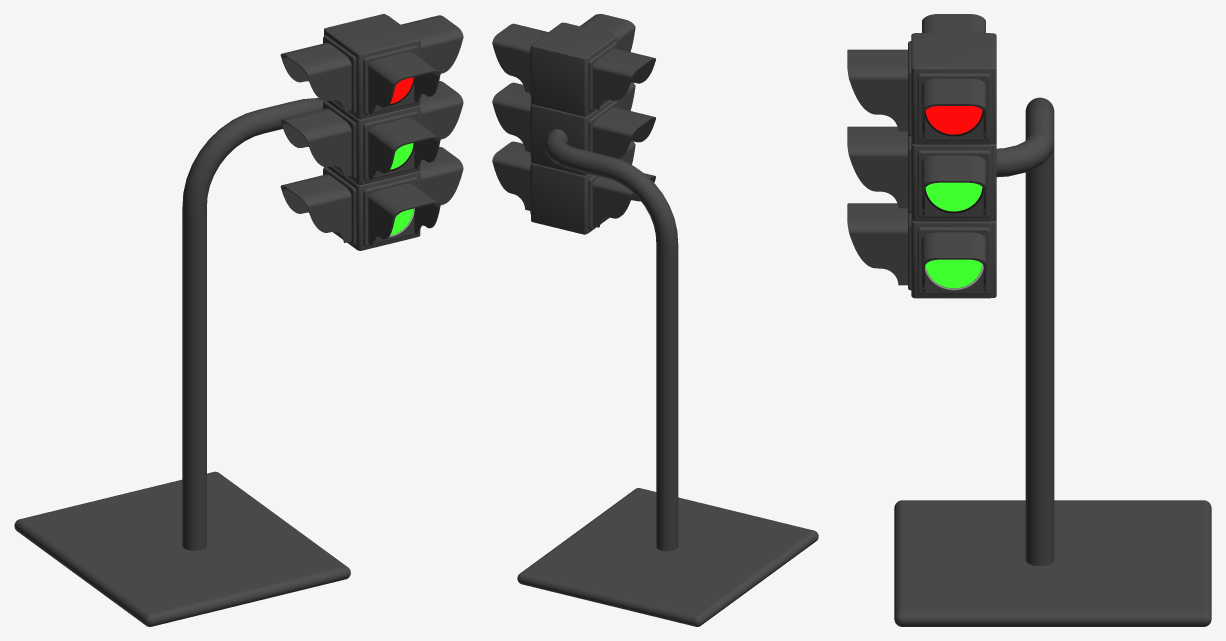
The model's file is light.fbx.
3 views of the same model, side by side, from view 1: azimuth 30°, elevation 25°; view 2: azimuth 150°, elevation 25°; view 3: azimuth 270°, elevation 25° (orthographic). The views are drawn at different scales.
Visible parts, largest first — view 1: Cube, Cylinder, 2_коробка_3, Extrude_Extrude_1, Extrude_Extrude_1_2, Extrude_Extrude_1_3, Extrude_Extrude_1_9, Extrude_Extrude_1_7, Extrude_Extrude_1_8, Extrude_Extrude_1_6, 2_коробка_7, Extrude_Extrude_1_5 (+6 smaller); view 2: Cube, Cylinder, 2_коробка_6, 2_коробка_4, Extrude_Extrude_1_3, Extrude_Extrude_1_2, 2_коробка_5, Extrude_Extrude_1_6, Extrude_Extrude_1_4, Extrude_Extrude_1_5, 2_коробка_3, Extrude_Extrude_1 (+4 smaller); view 3: Cube, Cylinder, Extrude_Extrude_1_7, Extrude_Extrude_1_8, Extrude_Extrude_1_9, 2_коробка_6, 2_коробка_3, Extrude_Extrude_1_5, Extrude_Extrude_1_6, Extrude_Extrude_1_4, 2_коробка_7, 2_коробка_5 (+7 smaller).
Part boxes in pixels (x1,y1,x2,y2): Cube: (14, 471, 350, 626); Cylinder: (182, 98, 323, 550); 2_коробка_3: (323, 15, 416, 119); Extrude_Extrude_1: (280, 174, 351, 242); Extrude_Extrude_1_2: (280, 108, 351, 177); Extrude_Extrude_1_3: (280, 43, 351, 111); Extrude_Extrude_1_9: (368, 183, 440, 245); Extrude_Extrude_1_7: (368, 52, 440, 114); Extrude_Extrude_1_8: (368, 118, 440, 180); Extrude_Extrude_1_6: (401, 15, 463, 73); 2_коробка_7: (325, 15, 420, 118); Extrude_Extrude_1_5: (420, 81, 463, 139); Cube: (517, 488, 818, 626); Cylinder: (544, 128, 678, 551); 2_коробка_6: (530, 22, 612, 116); 2_коробка_4: (530, 163, 581, 233); Extrude_Extrude_1_3: (592, 48, 655, 109); Extrude_Extrude_1_2: (592, 107, 655, 158); 2_коробка_5: (530, 104, 581, 175); Extrude_Extrude_1_6: (492, 23, 548, 92); Extrude_Extrude_1_4: (492, 141, 531, 210); Extrude_Extrude_1_5: (492, 82, 531, 151); 2_коробка_3: (537, 23, 618, 116); Extrude_Extrude_1: (592, 173, 655, 227); Cube: (894, 500, 1211, 626); Cylinder: (996, 97, 1054, 565); Extrude_Extrude_1_7: (847, 49, 907, 131); Extrude_Extrude_1_8: (847, 126, 907, 208); Extrude_Extrude_1_9: (847, 203, 907, 285); 2_коробка_6: (911, 35, 996, 144); 2_коробка_3: (911, 33, 996, 66); Extrude_Extrude_1_5: (922, 155, 985, 218); Extrude_Extrude_1_6: (922, 78, 985, 141); Extrude_Extrude_1_4: (922, 232, 985, 294); 2_коробка_7: (908, 33, 991, 144); 2_коробка_5: (911, 142, 996, 220).
Size of the model in its own units: 730 by 1097 by 599.
